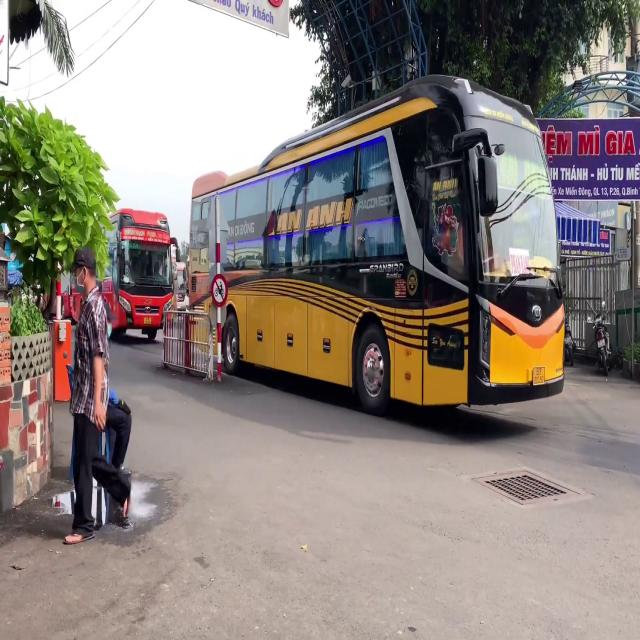bien_vang: (530, 363, 546, 386)
